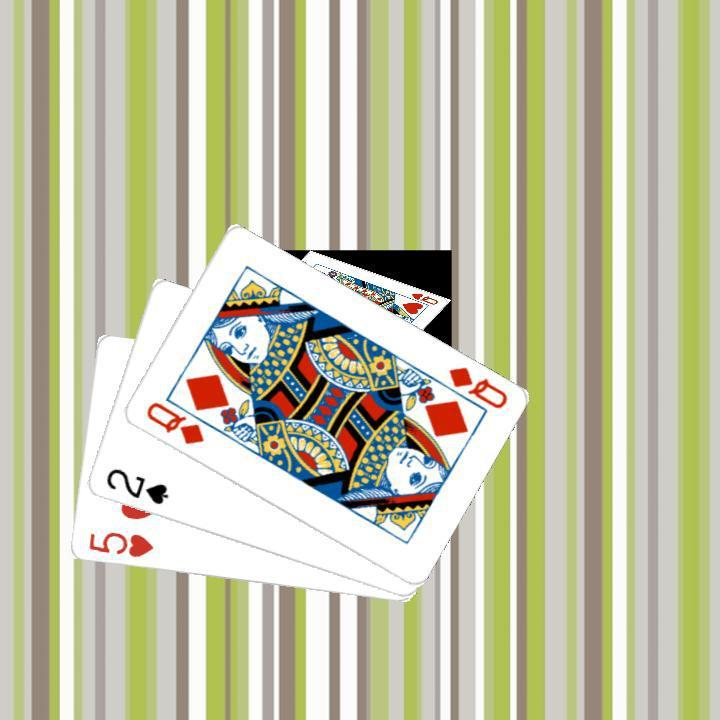2: (101, 464, 170, 507)
5: (84, 528, 155, 560)
Q: (141, 397, 206, 447), (443, 362, 509, 411)
